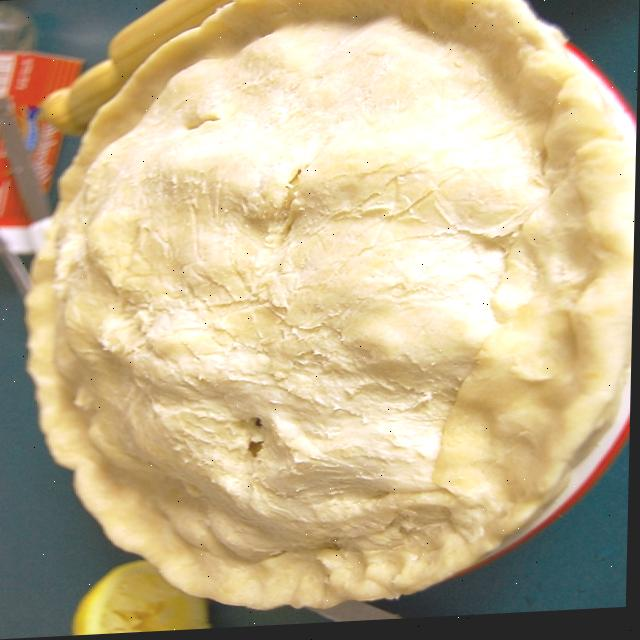炸货点心: (23, 0, 639, 619)
蛋糕甜品: (23, 0, 639, 619)
